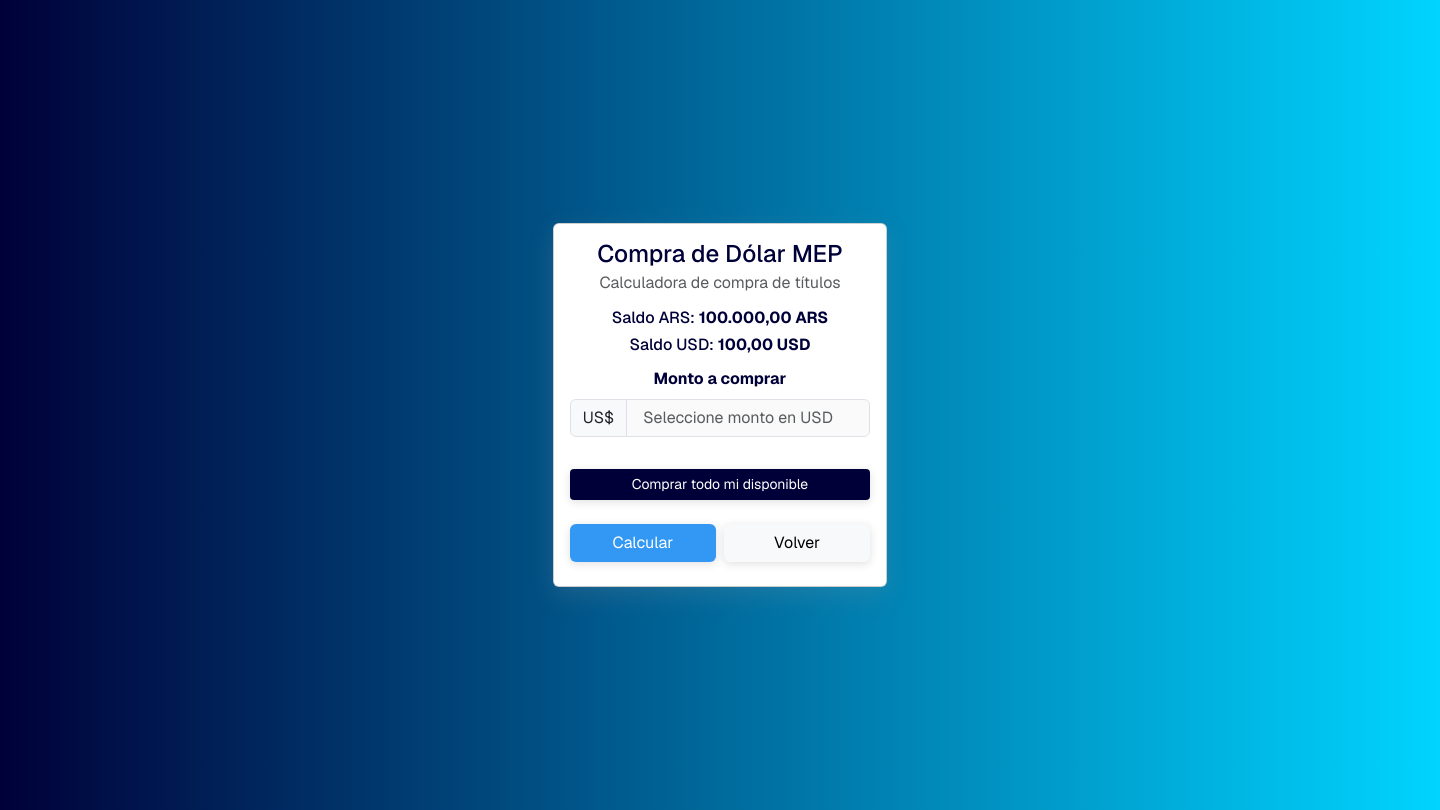
BuyCard Component › should show error message if input is empty
Step 1. Click the button "Calcular" → (643, 543), box [570,524,716,562]
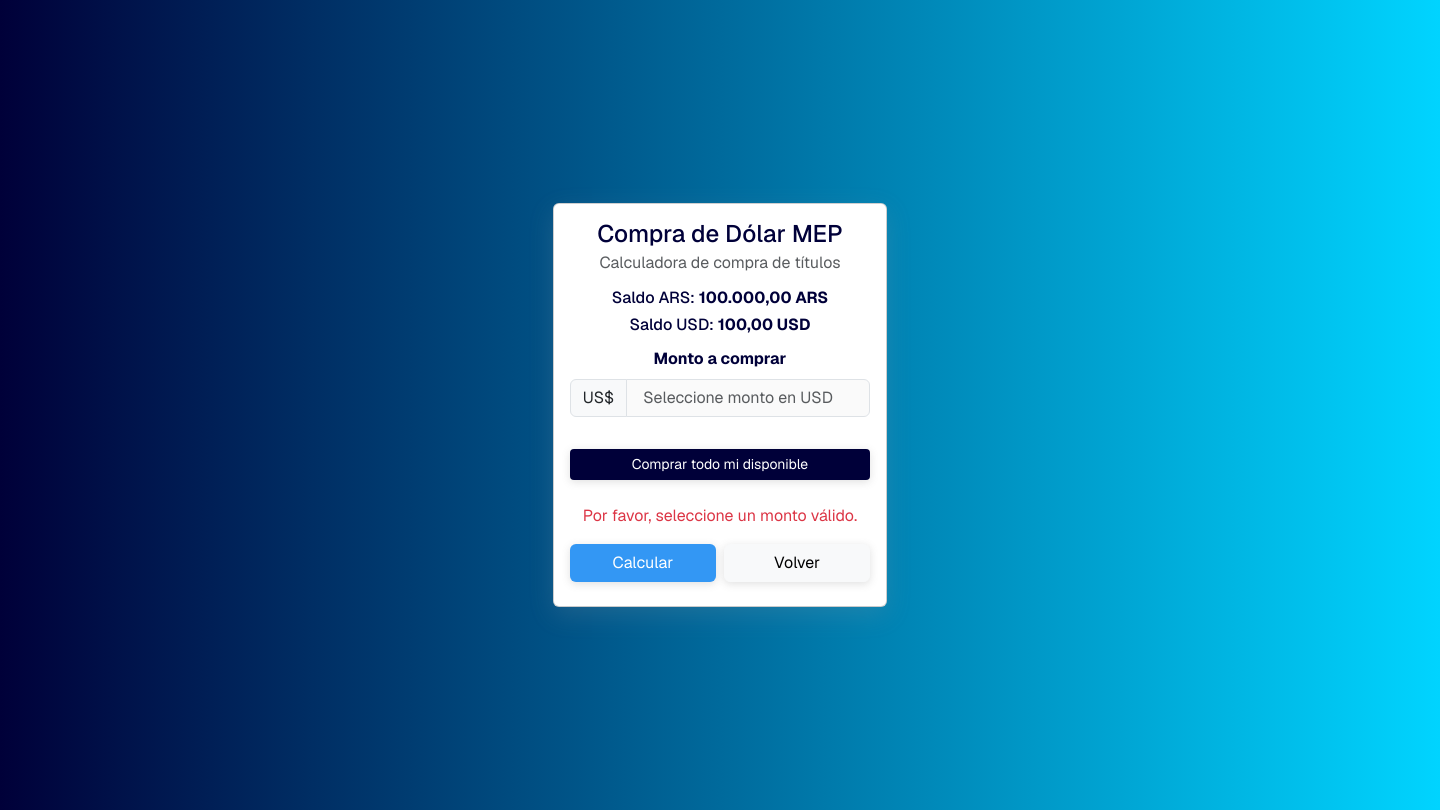
Expected: the text "Por favor, seleccione un monto válido." is shown, [570,504,870,528]
